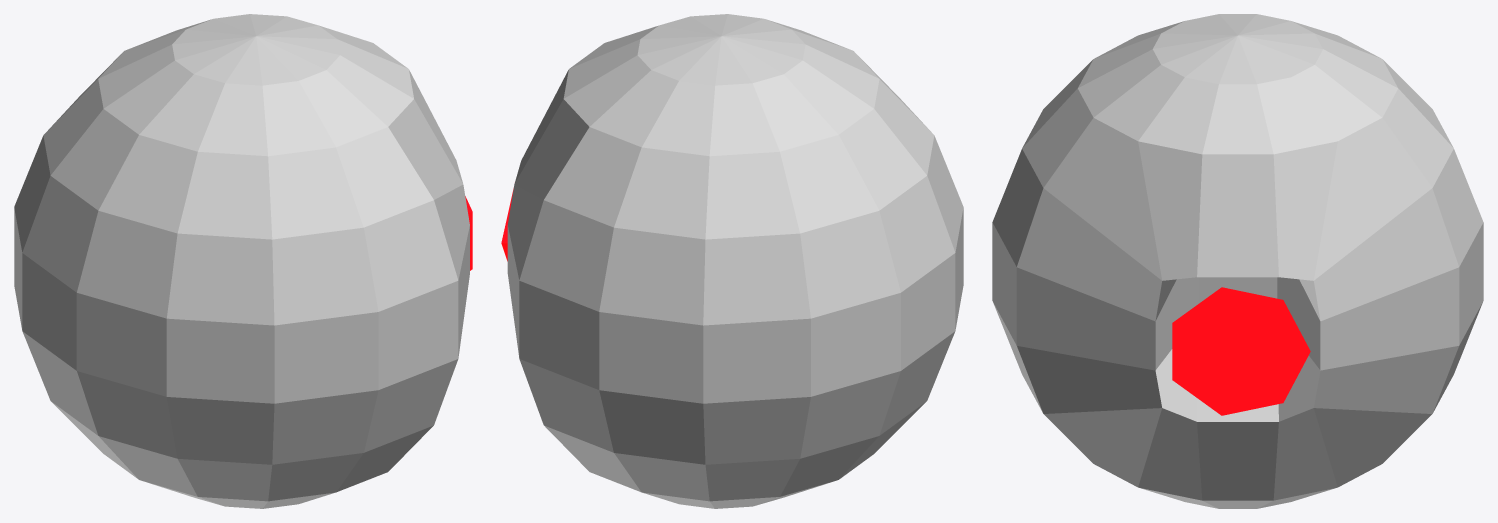
File: scanner.glb
3 views of the same model, side by side, from view 1: azimuth 30°, elevation 25°; view 2: azimuth 150°, elevation 25°; view 3: azimuth 270°, elevation 25° (orthographic).
Parts seen in each view (by area): view 1: ball; view 2: ball; view 3: ball, pupil.
Boxes of the visible parts, x1,y1,x2,y2 form: ball: [14, 14, 469, 508]; ball: [507, 14, 963, 508]; ball: [992, 14, 1483, 508]; pupil: [1172, 287, 1310, 415].
Bounding box in the file's own units: 1.81 × 2 × 1.97.
